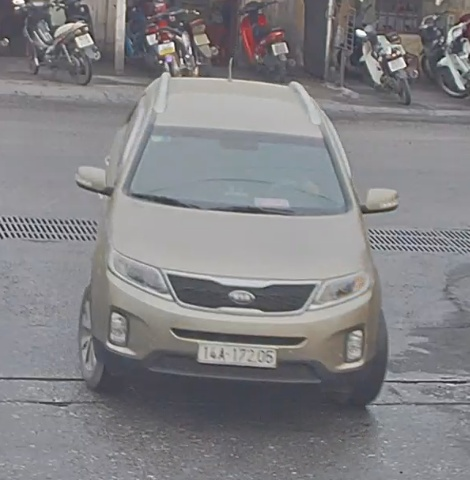vehicle plate: (189, 332, 278, 367)
